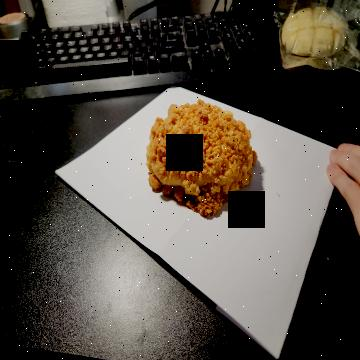soboru_bread: (144, 99, 258, 219)
